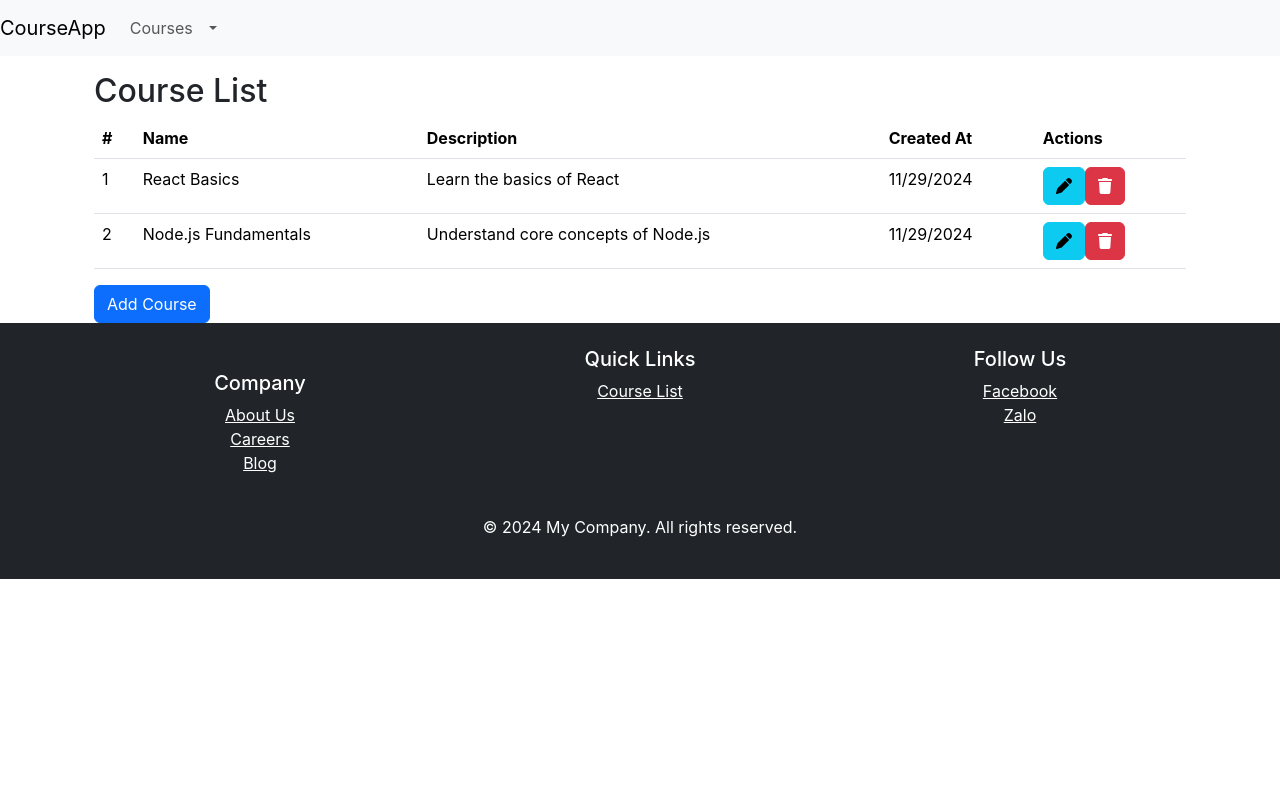
Test: Delete Course › should delete a course successfully
Expected: the text "React Basics" is shown, [135,159,419,214]
Click the 1st button with class "btn-danger": (1105, 186) [1085,167,1125,205]
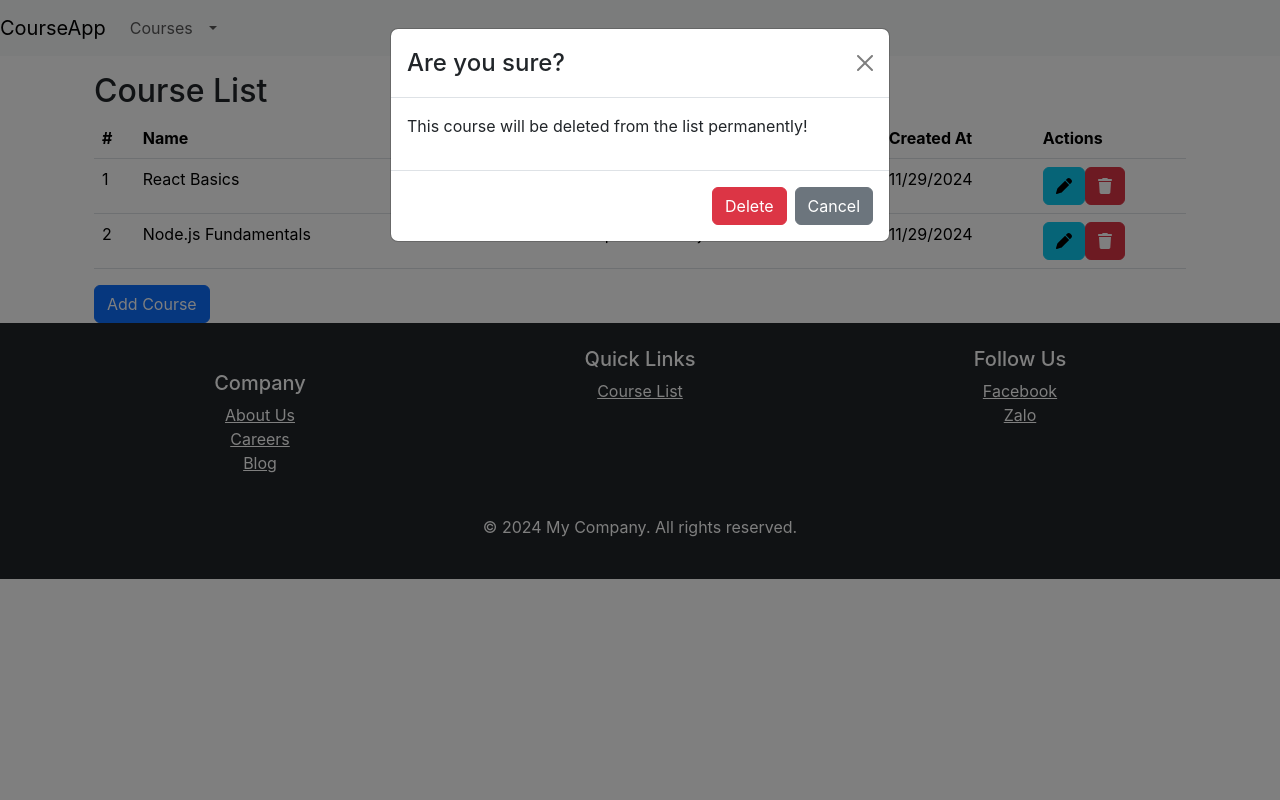
Result: the text "This course will be deleted" is shown at [407,116,808,136]
Click the button "Delete": (750, 206) [712,187,787,225]
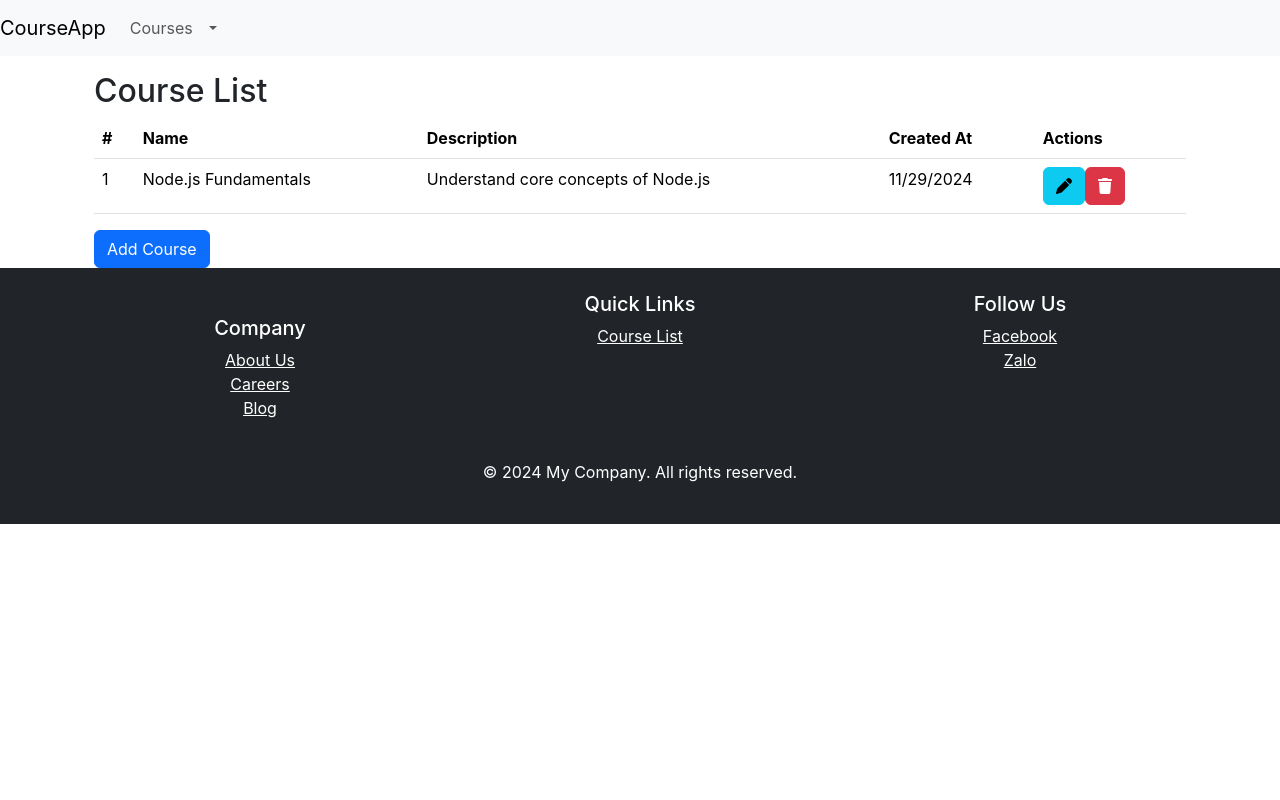
Result: the text "React Basics" is gone
